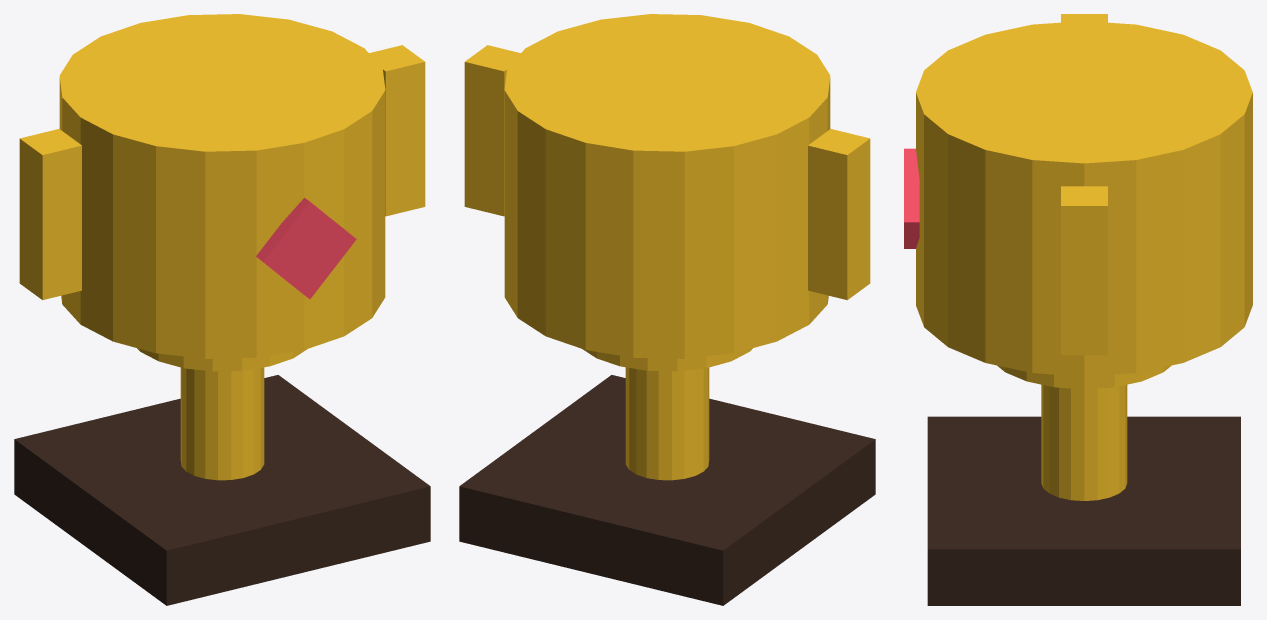
File: hat_trophy.fbx
3 views of the same model, side by side, from view 1: azimuth 30°, elevation 25°; view 2: azimuth 150°, elevation 25°; view 3: azimuth 270°, elevation 25° (orthographic). The views are drawn at different scales.
Visible parts, largest first — view 1: hat_trophy; view 2: hat_trophy; view 3: hat_trophy.
Boxes of the visible parts, left/top/right/bottom form: hat_trophy: left=14, top=14, right=430, bottom=605; hat_trophy: left=459, top=14, right=875, bottom=605; hat_trophy: left=904, top=14, right=1252, bottom=605.
Size of the model in its own units: 116 by 126 by 89.
Materials: 1 (1 with a texture image).
